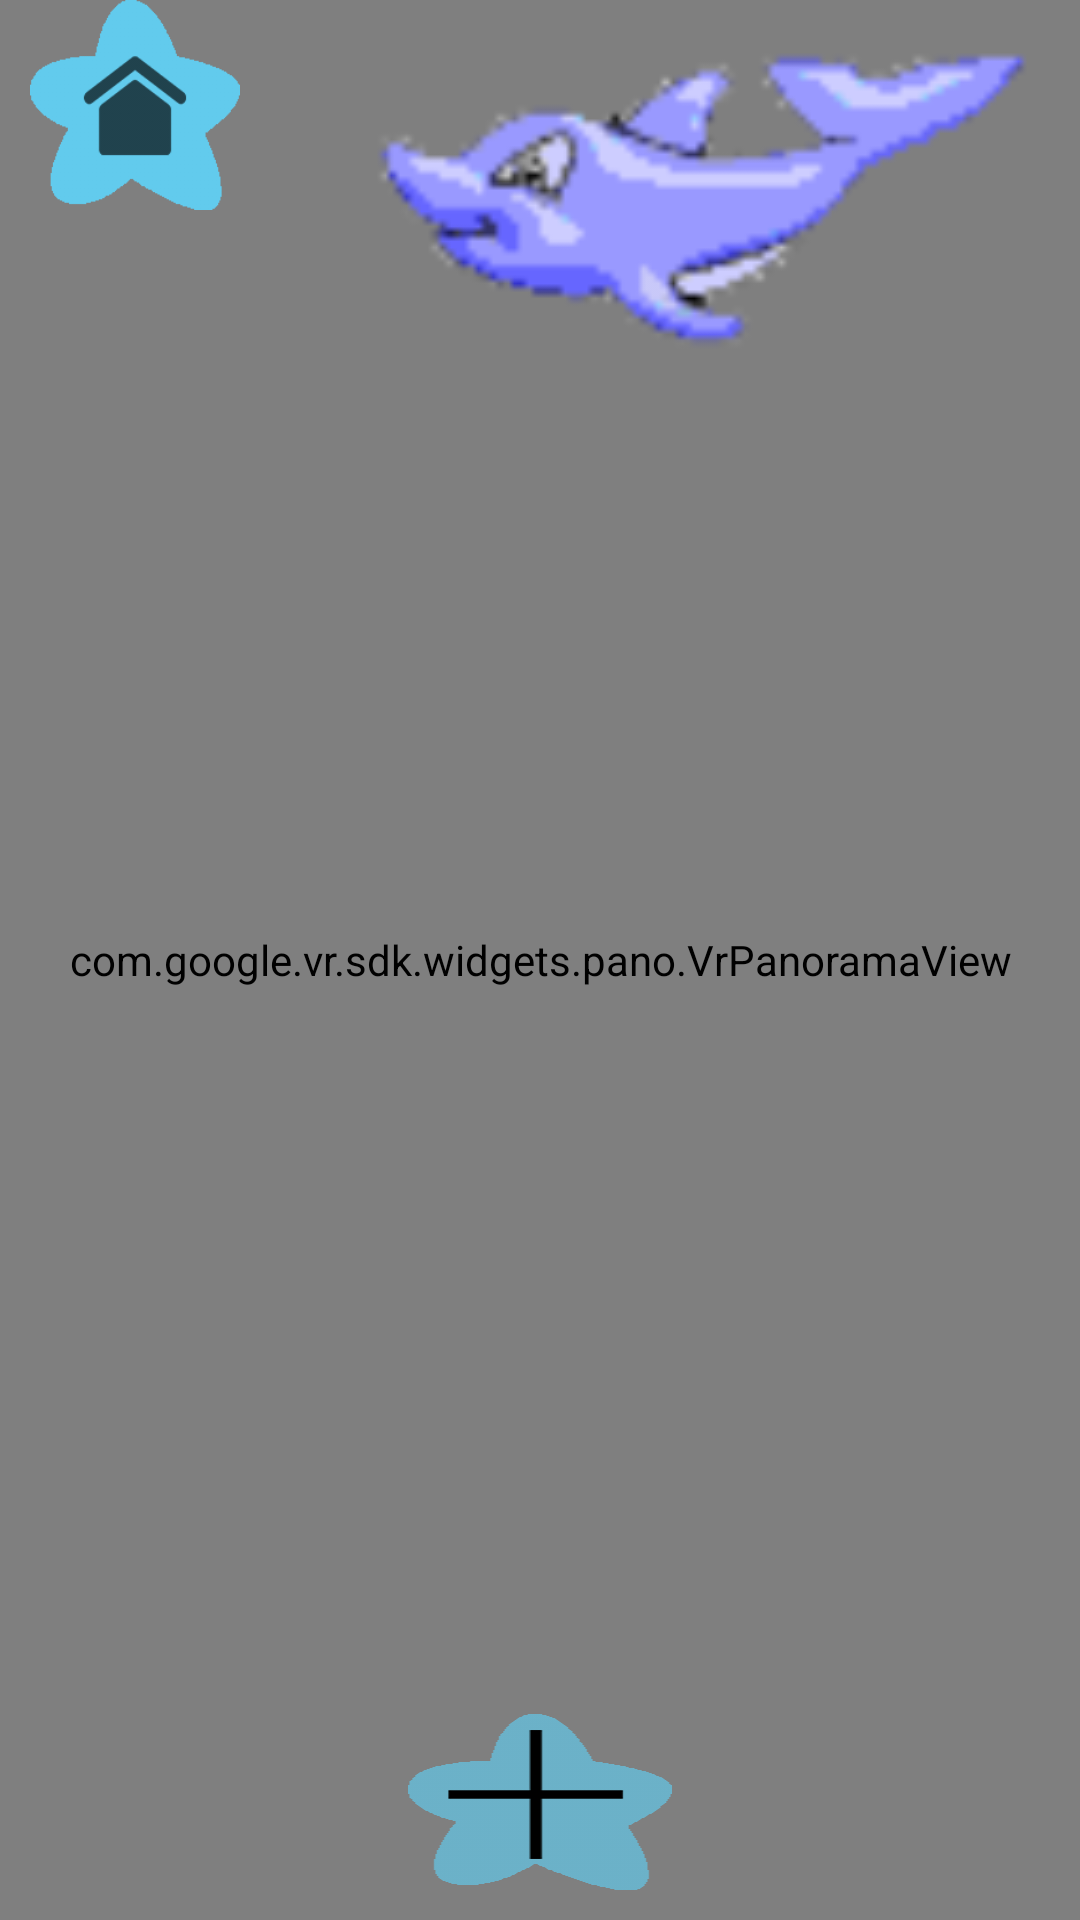

Icons on this 1080×1920 Android screen, each with its box as (x1, y1, x2, y2):
home: (30, 0, 240, 210)
plus: (408, 1714, 672, 1890)
